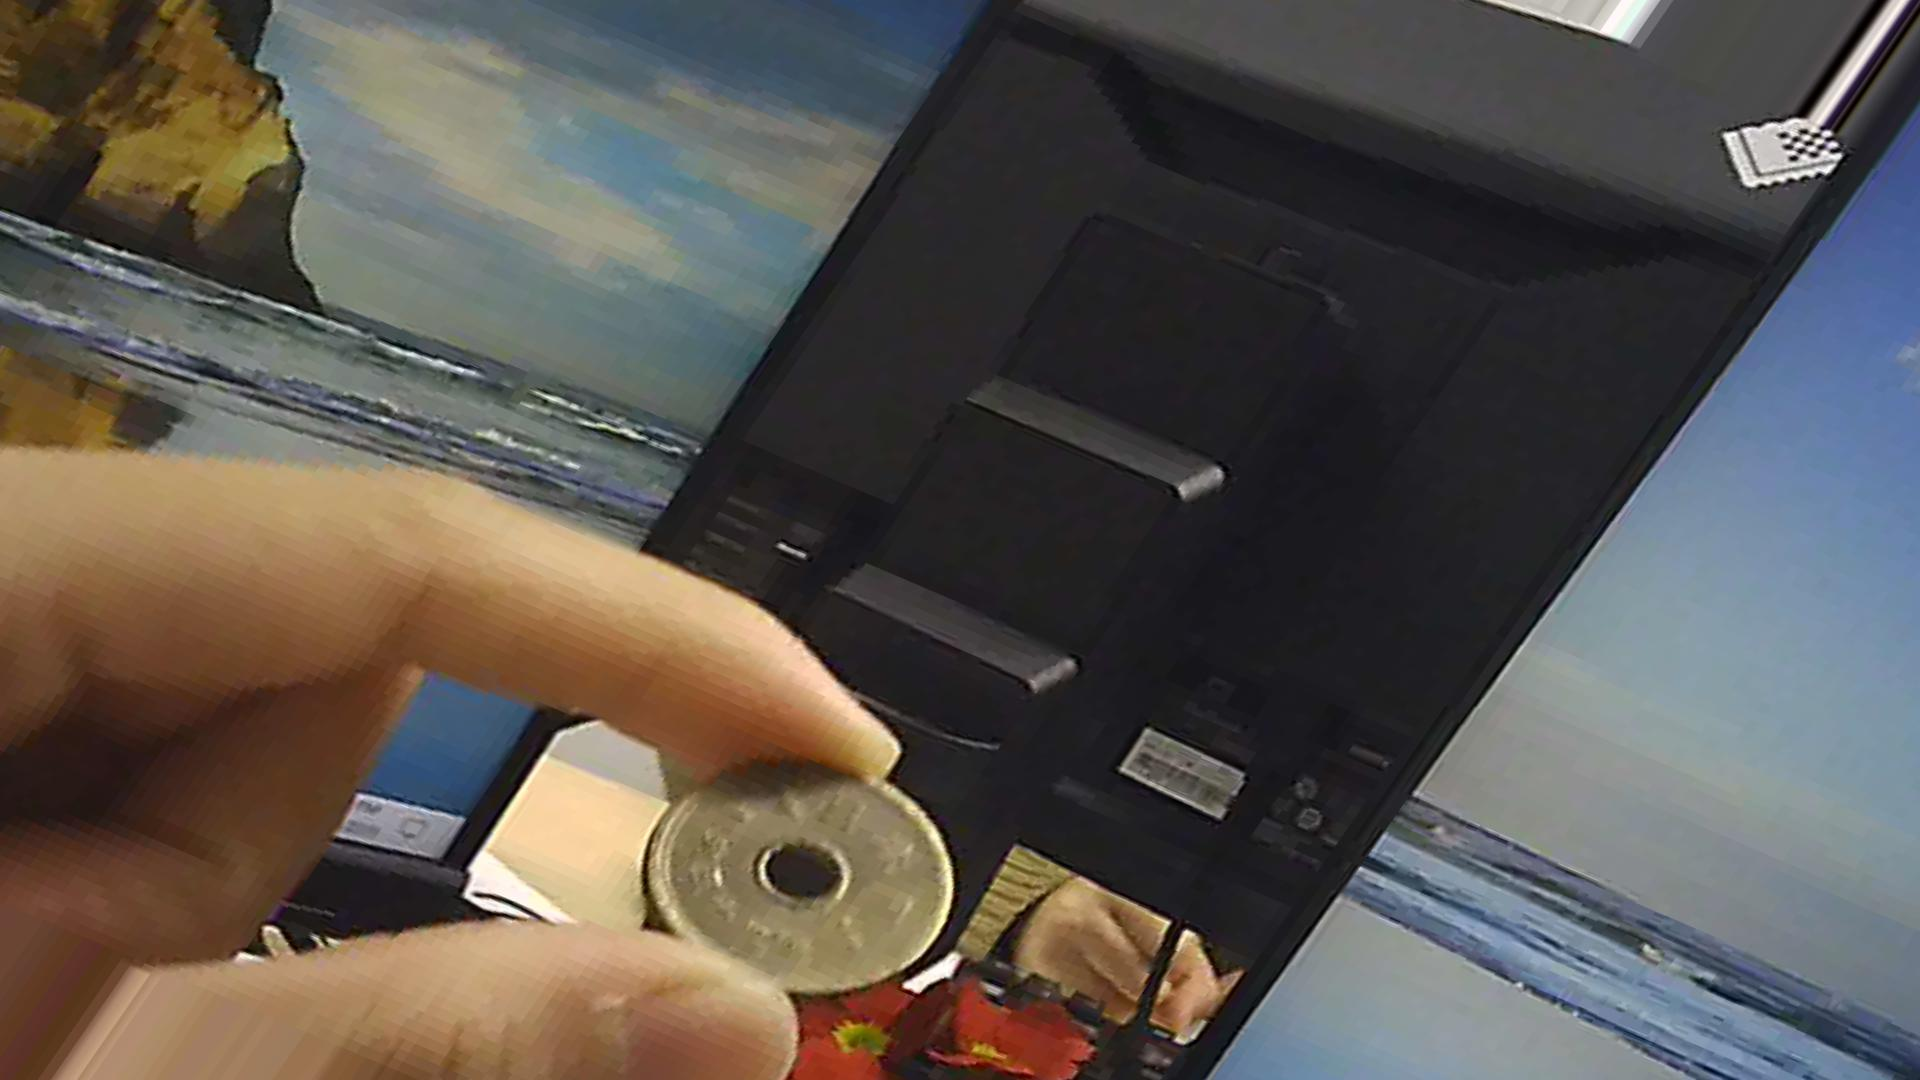5 Yen: (637, 753, 945, 996)
